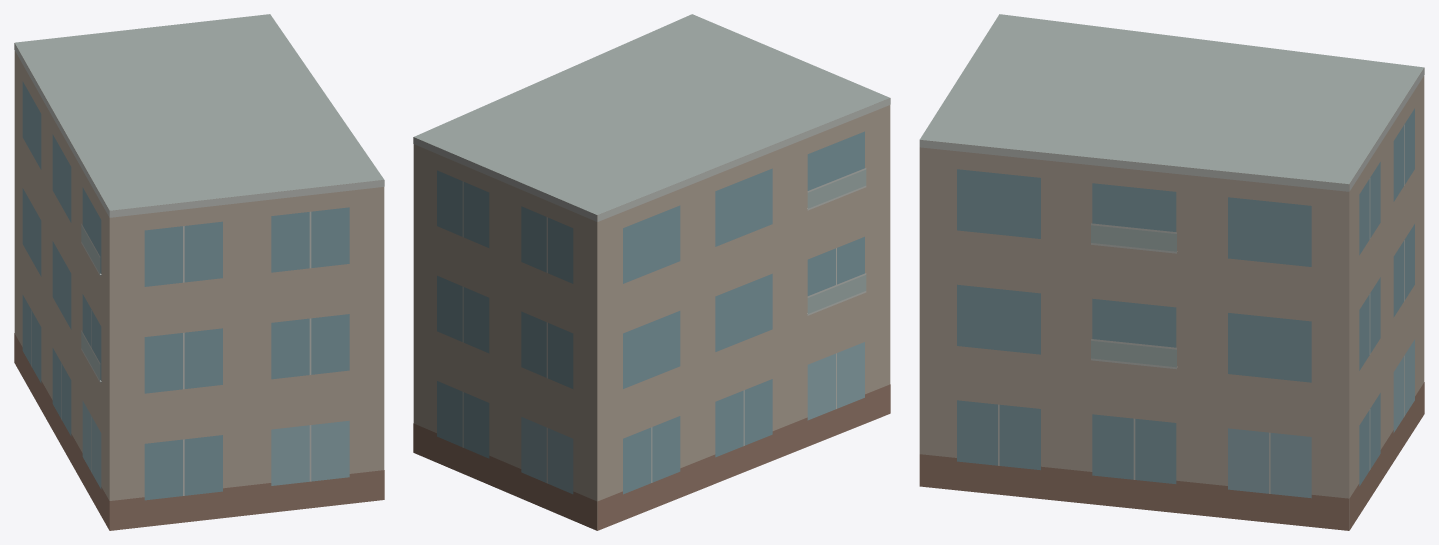
File: survey-upis-32766428.glb
The picture shows the model from 3 angles, left to right: view 1: azimuth 30°, elevation 25°; view 2: azimuth 150°, elevation 25°; view 3: azimuth 270°, elevation 25°; orthographic projection. The views are drawn at different scales.
Parts seen in each view (by area): view 1: survey-upis-32766428.tmp; view 2: survey-upis-32766428.tmp; view 3: survey-upis-32766428.tmp.
Boxes of the visible parts, <box> form: survey-upis-32766428.tmp: <box>14,14,384,530</box>; survey-upis-32766428.tmp: <box>413,14,890,530</box>; survey-upis-32766428.tmp: <box>919,14,1424,530</box>.
Size of the model in its own units: 11.7 by 11.1 by 14.66.
